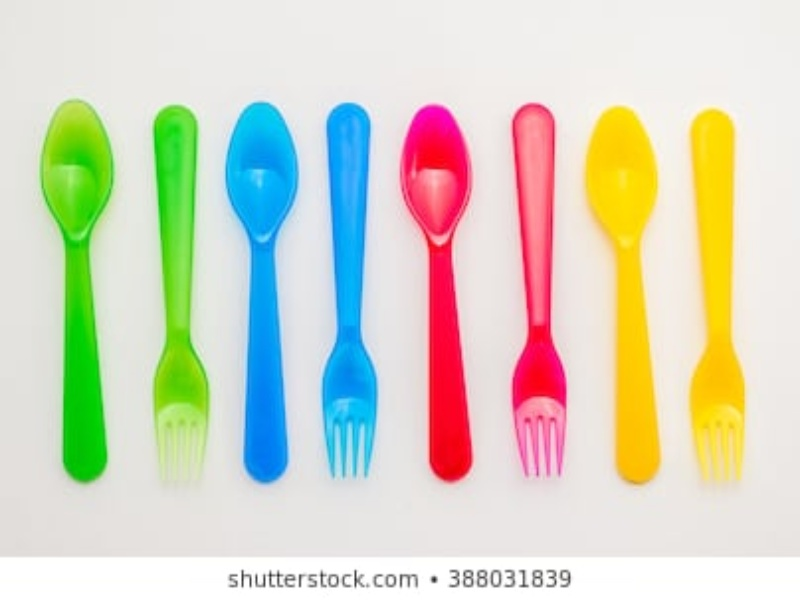plastic-silverware: (37, 98, 116, 484), (582, 102, 661, 488), (397, 101, 476, 487), (223, 99, 302, 485), (505, 102, 569, 487), (685, 103, 747, 486), (316, 98, 378, 481), (150, 105, 209, 487)
